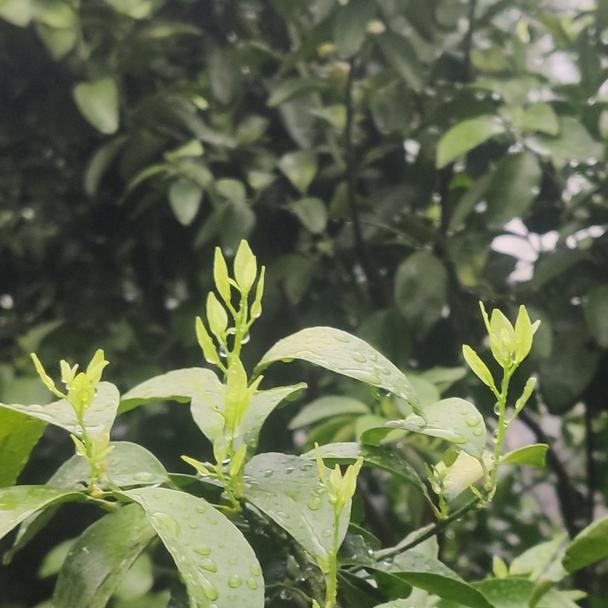shoot: (471, 298, 547, 431), (199, 251, 273, 376), (34, 353, 108, 425), (315, 446, 365, 522)
